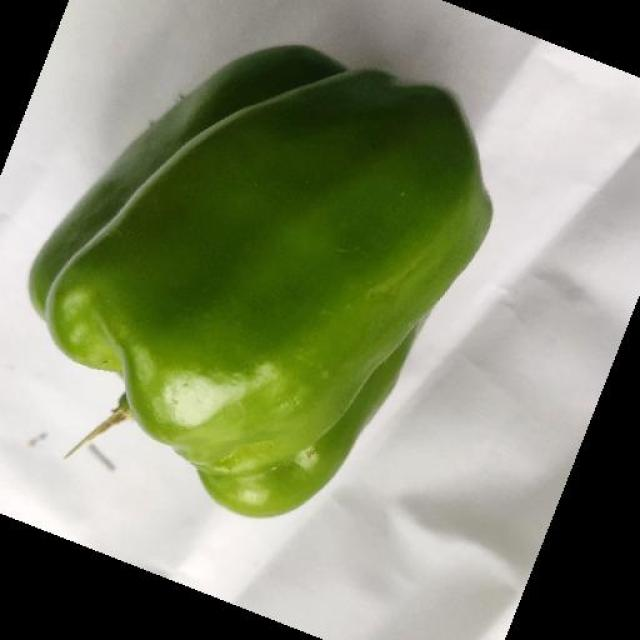Fresh_Capsicum: (60, 39, 472, 495)
